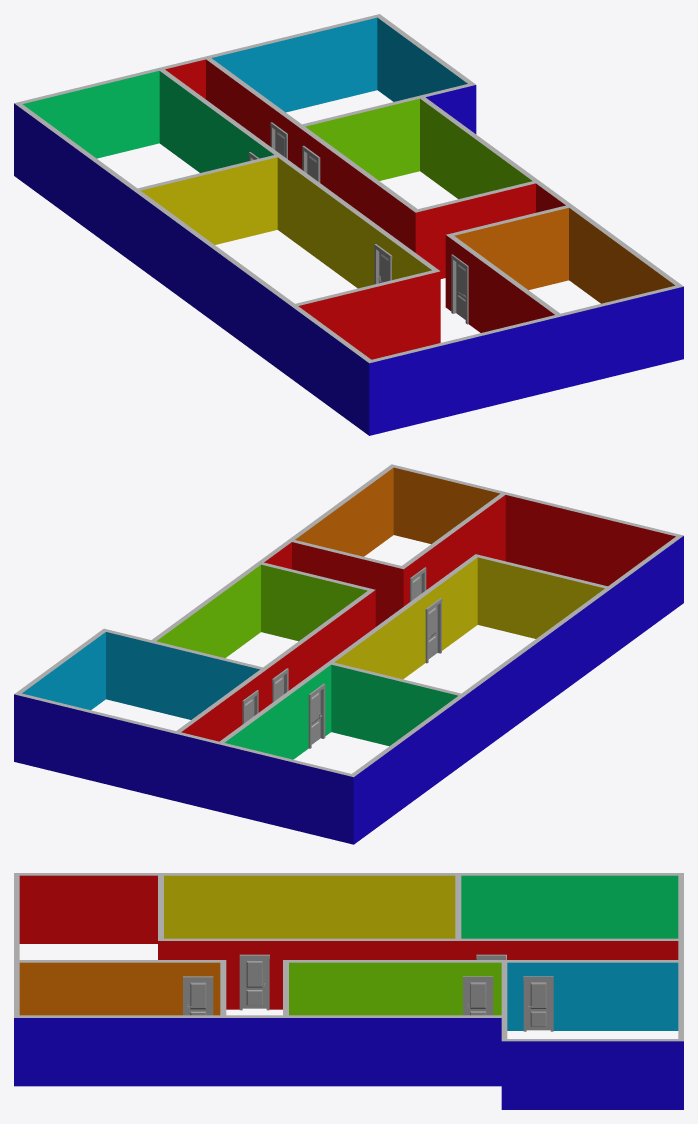
The model's file is 2ndfloorFix.fbx.
3 renders of one model, top to bottom at view 1: azimuth 30°, elevation 25°; view 2: azimuth 150°, elevation 25°; view 3: azimuth 270°, elevation 25°, orthographic. The views are drawn at different scales.
Visible parts, largest first — view 1: pasted__polySurface37, doorframe; view 2: pasted__polySurface37, doorframe; view 3: pasted__polySurface37, door (×4), doorframe (×4).
Part boxes in pixels (bbox=[...]): pasted__polySurface37: bbox=[14, 14, 683, 435]; doorframe: bbox=[451, 254, 468, 324]; pasted__polySurface37: bbox=[14, 464, 683, 844]; doorframe: bbox=[308, 683, 325, 748]; pasted__polySurface37: bbox=[14, 873, 683, 1109]; door (×4): bbox=[186, 959, 550, 1030]; doorframe (×4): bbox=[183, 954, 553, 1031].
Size of the model in its own units: 1713 by 325 by 2882.
